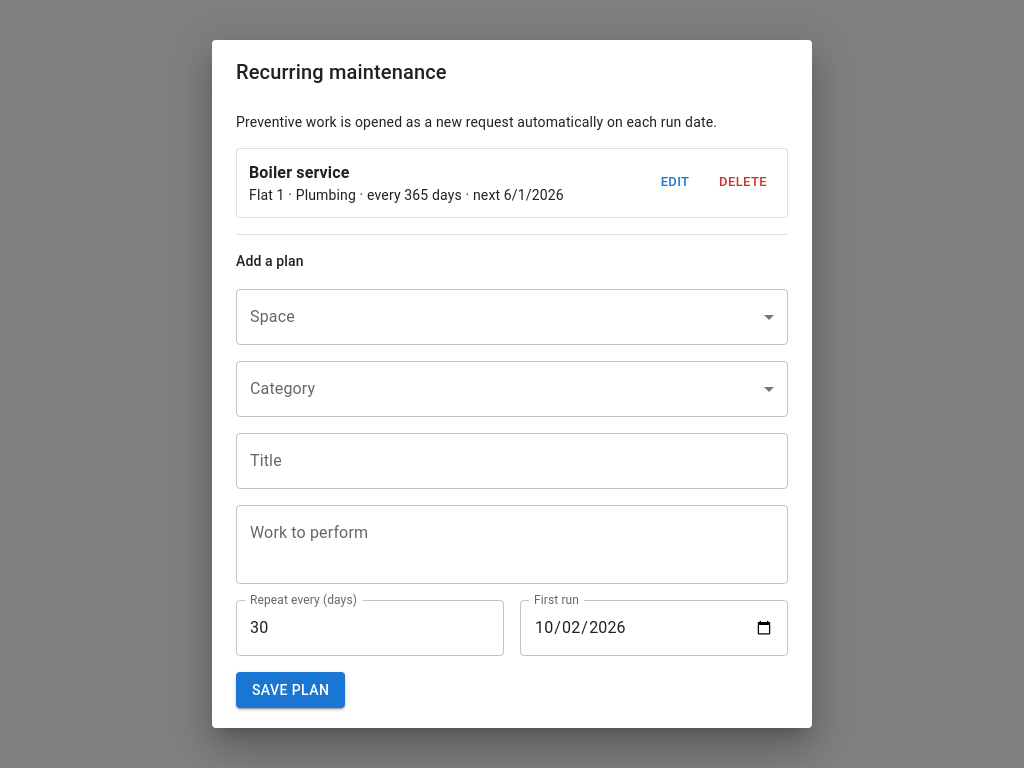
it: cancelling an edit returns the form to add mode
Step 1. Click the button with aria-label "Edit plan Boiler service" → (675, 183), box [643,167,707,198]
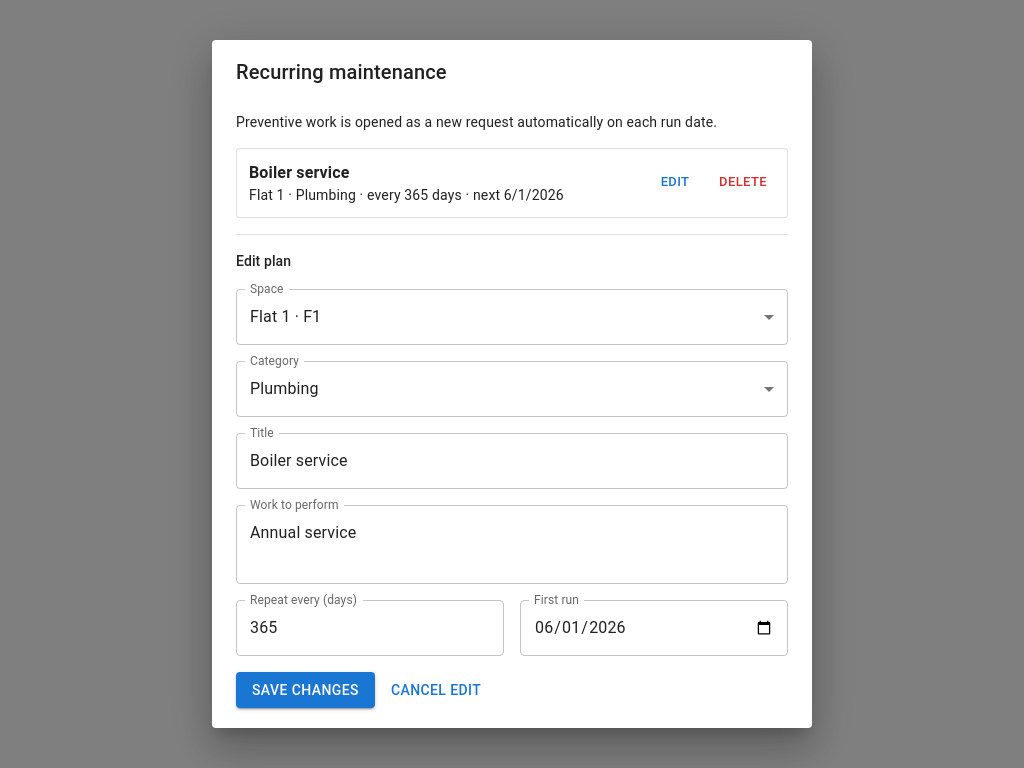
Step 2. Click the button "Cancel edit" → (436, 690), box [383,672,489,708]
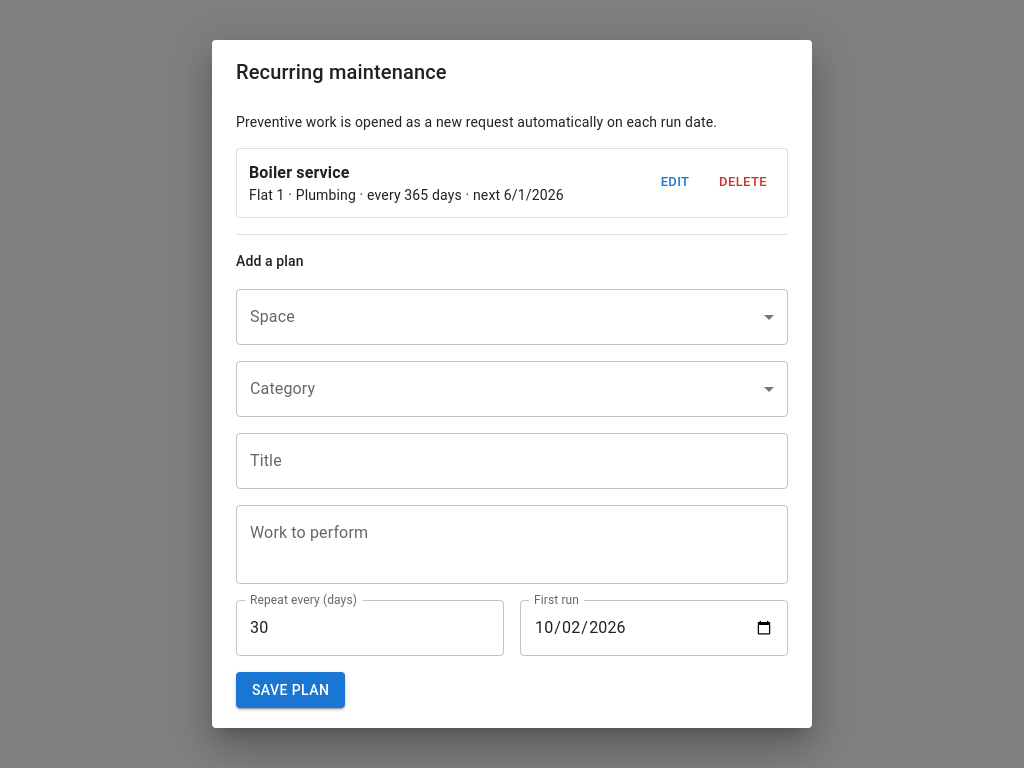
Result: the heading "Add a plan" is shown at [236,253,304,269]
Result: the field labelled "Title" is empty at [236,433,788,489]
